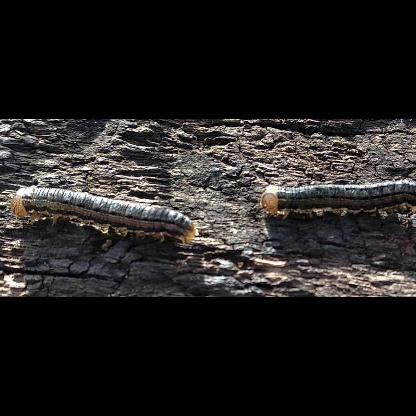oruga: (11, 182, 195, 250), (260, 178, 416, 216)
